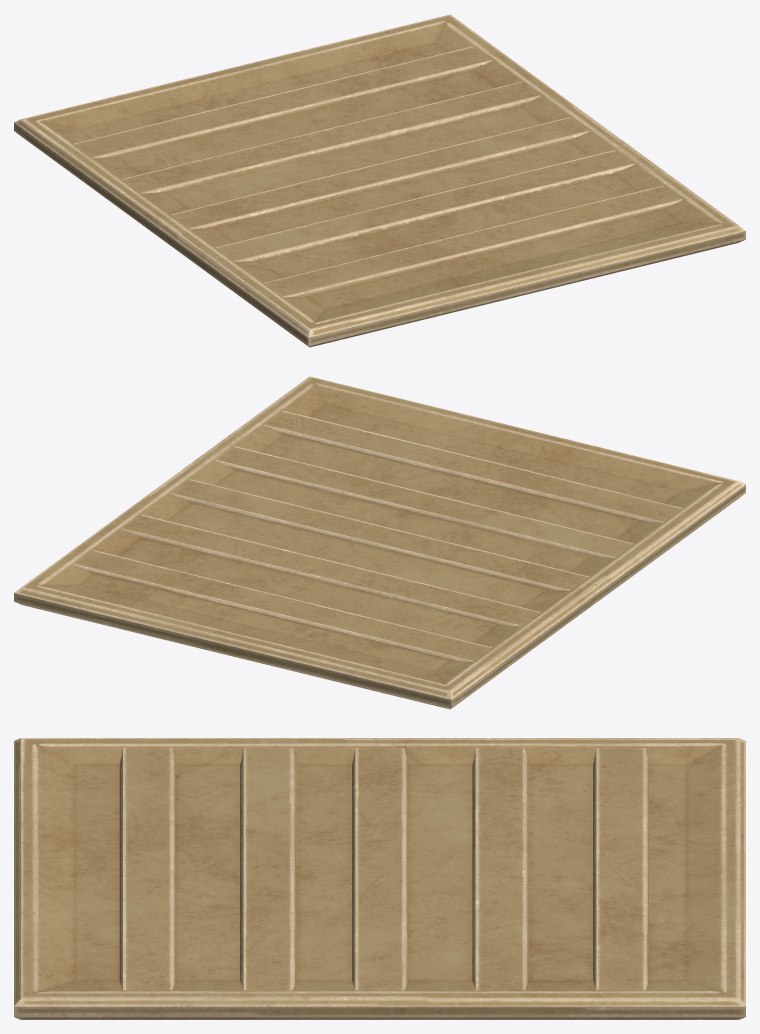
File: Ruin plane.FBX
3 views of the same model, one above another, from view 1: azimuth 30°, elevation 25°; view 2: azimuth 150°, elevation 25°; view 3: azimuth 270°, elevation 25° (orthographic). The views are drawn at different scales.
Parts seen in each view (by area): view 1: Ruin plane 1; view 2: Ruin plane 1; view 3: Ruin plane 1.
Part boxes in pixels (x1,y1,x2,y2): Ruin plane 1: (14, 14, 745, 347); Ruin plane 1: (14, 376, 745, 709); Ruin plane 1: (14, 738, 745, 1019).
Bounding box in the file's own units: 8349 × 312 × 9722.
Materials: 1 (1 with a texture image).
